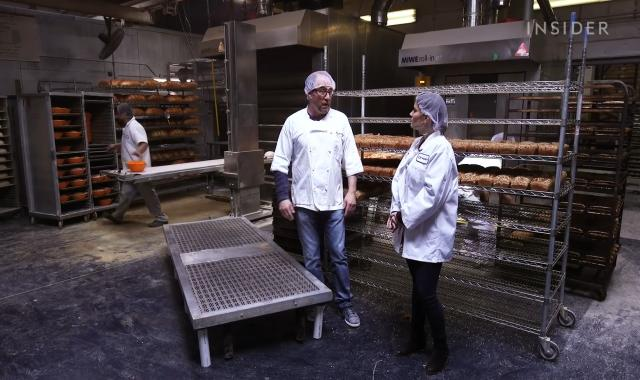hairnet: (416, 91, 449, 133), (303, 71, 339, 94), (117, 102, 134, 120)
